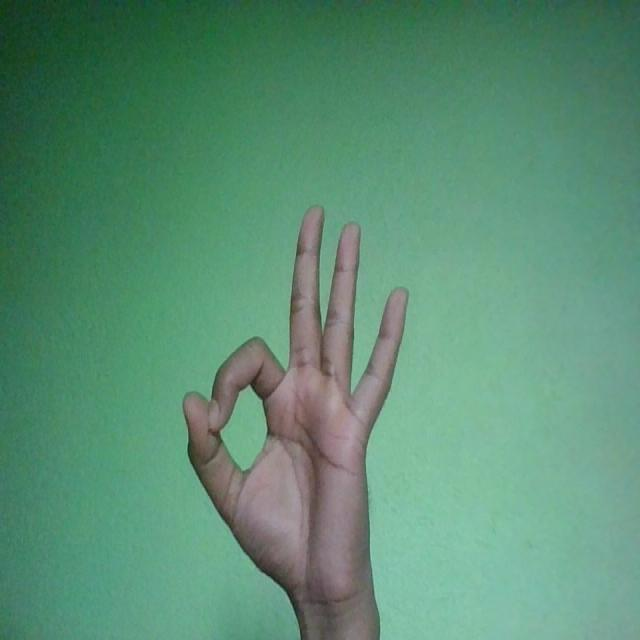Rock On: (184, 206, 410, 614)
